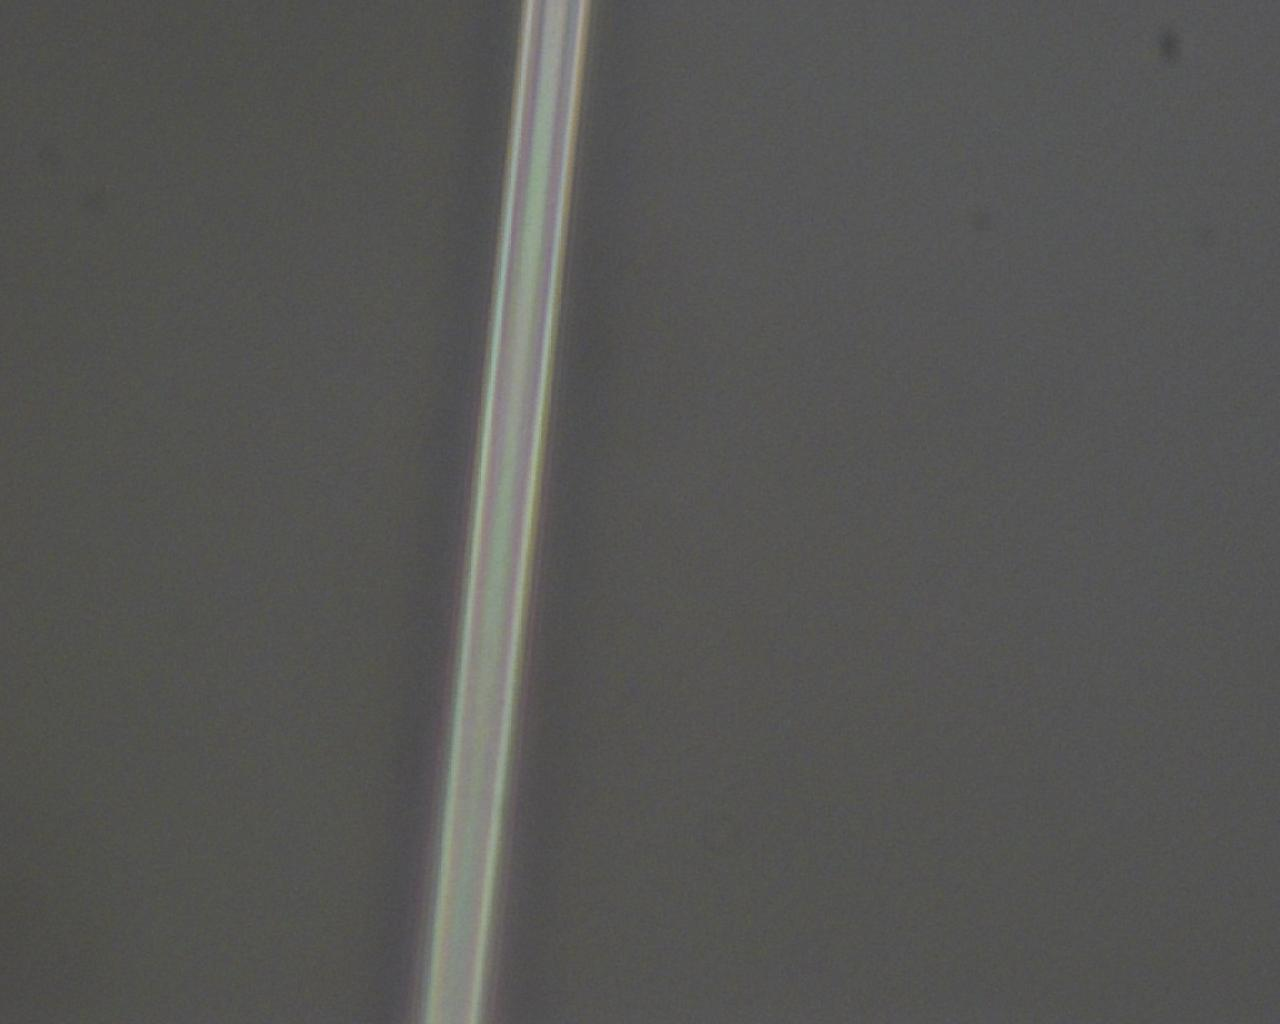fiber: (128, 173, 1152, 593)
